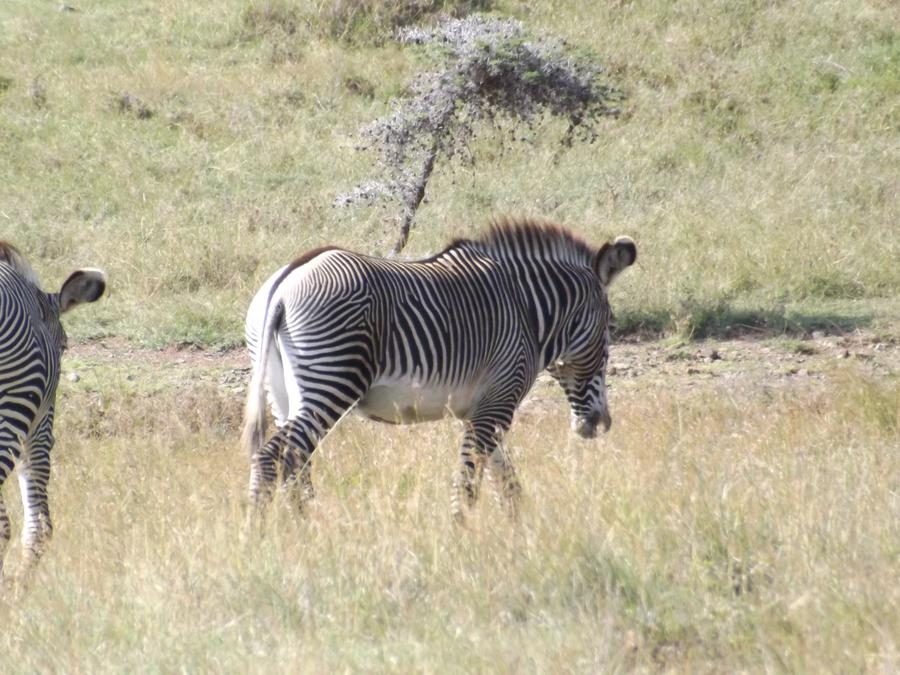zebra_grevys: (273, 232, 523, 417)
